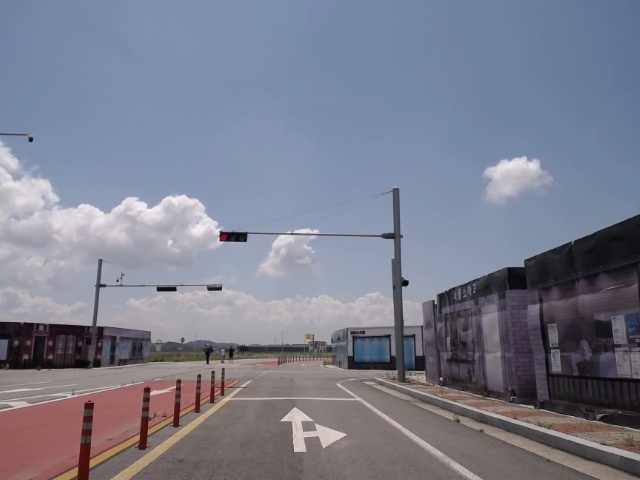red_3: (219, 233, 249, 242)
